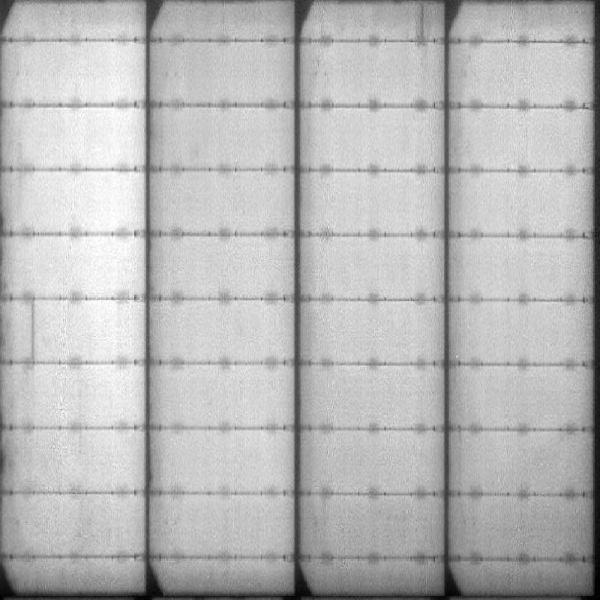scratch: (416, 3, 432, 47), (27, 296, 36, 363)
